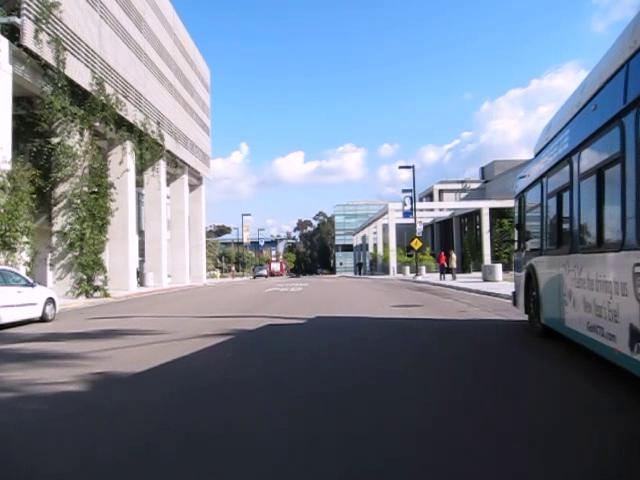pedestrianCrossing: (409, 237, 423, 251)
